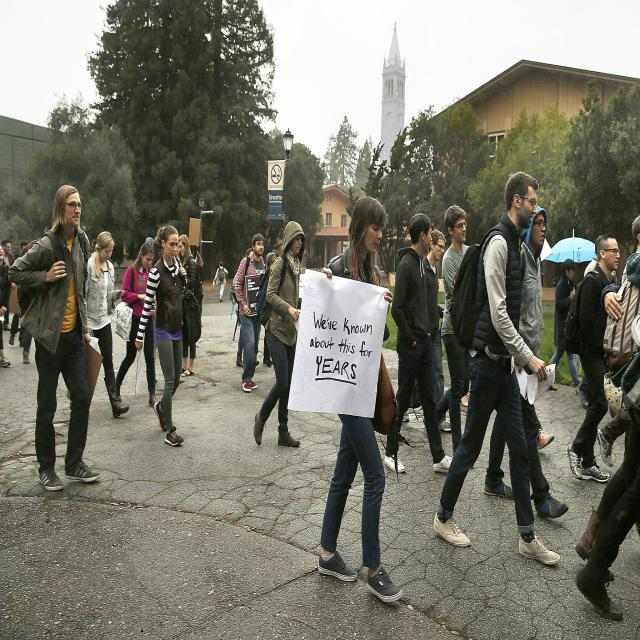body: (431, 171, 562, 568), (317, 194, 405, 606), (7, 184, 103, 493), (479, 201, 569, 522), (572, 212, 640, 622), (382, 212, 460, 475), (560, 233, 622, 485), (134, 225, 202, 447), (252, 220, 308, 448), (422, 204, 471, 458), (402, 228, 451, 432), (84, 231, 130, 416), (575, 235, 622, 410), (112, 241, 161, 408), (522, 272, 555, 466), (231, 232, 267, 396), (547, 259, 581, 392), (177, 234, 201, 377), (236, 248, 260, 368), (138, 233, 204, 270), (262, 252, 278, 368), (0, 244, 12, 369), (1, 239, 15, 332), (212, 260, 229, 304), (18, 327, 36, 365), (1, 238, 14, 269), (13, 240, 30, 260), (314, 253, 322, 269)
